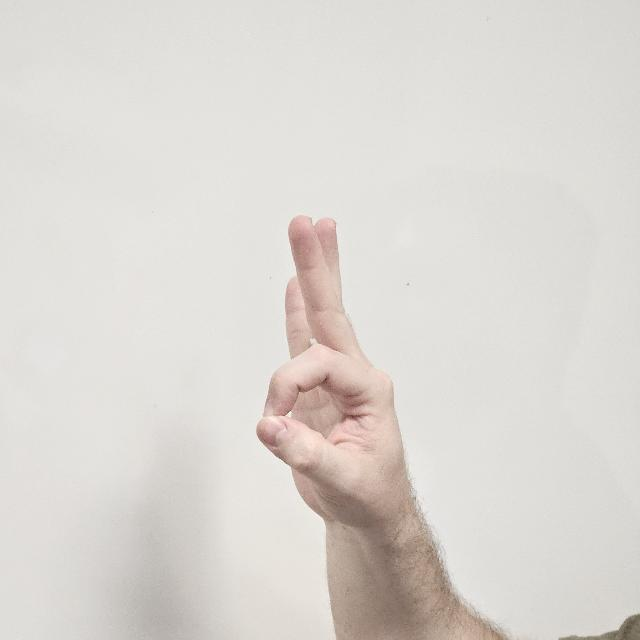Bolinha: (241, 208, 427, 562)
